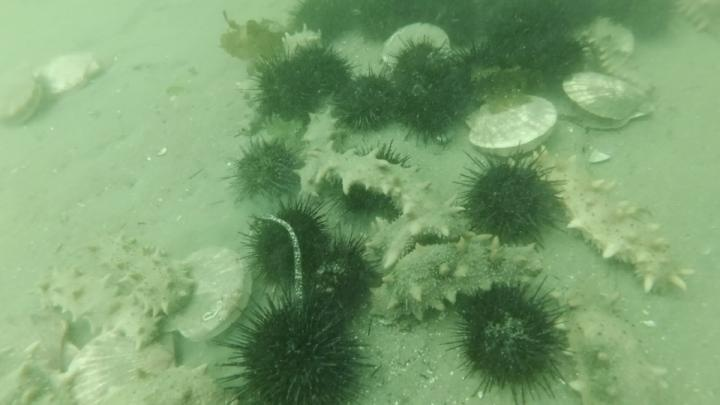echinus: (217, 286, 376, 404), (444, 276, 575, 402), (455, 152, 565, 250), (229, 195, 330, 295), (475, 6, 587, 91), (297, 224, 385, 329), (387, 53, 474, 144), (166, 321, 253, 391), (246, 51, 328, 124), (225, 134, 305, 206), (454, 43, 545, 101), (330, 66, 404, 135), (522, 29, 590, 87), (289, 41, 356, 98), (356, 1, 435, 46), (605, 1, 679, 44), (286, 1, 360, 42), (544, 1, 603, 34)
holothurian: (549, 151, 691, 299), (301, 107, 467, 230), (364, 232, 550, 329), (553, 269, 671, 405), (34, 257, 184, 350), (62, 227, 199, 325), (360, 189, 493, 288), (97, 365, 236, 405), (292, 104, 344, 205), (1, 349, 84, 405), (562, 321, 614, 405), (573, 15, 639, 80), (243, 111, 313, 165), (672, 1, 720, 42), (278, 24, 327, 61)
scallop: (167, 242, 256, 347), (72, 330, 175, 404), (463, 89, 561, 163), (558, 67, 659, 133), (378, 21, 455, 81), (33, 45, 112, 97), (1, 67, 49, 131)
